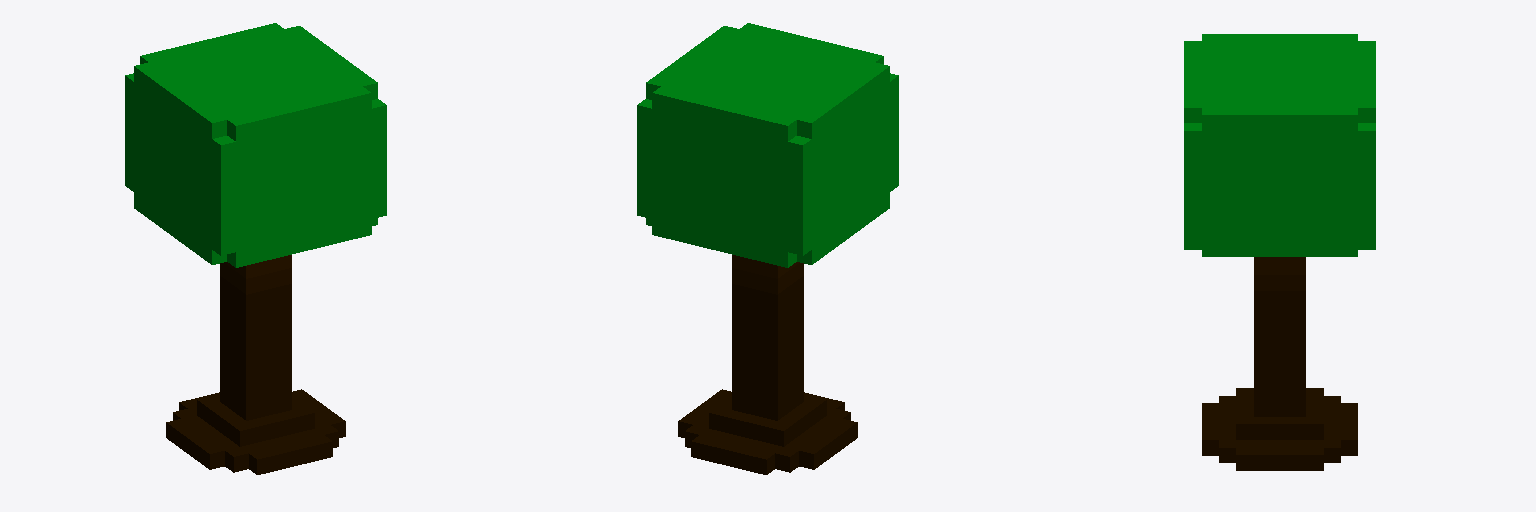
3 renders of one model, left to right at view 1: azimuth 30°, elevation 25°; view 2: azimuth 150°, elevation 25°; view 3: azimuth 270°, elevation 25°, orthographic.
Visible parts, largest first — view 1: object 1; view 2: object 1; view 3: object 1.
Boxes of the visible parts, box(x1,y1,x2,y2) form: object 1: box(125, 23, 386, 474); object 1: box(637, 23, 898, 474); object 1: box(1184, 34, 1375, 470).
Size of the model in its own units: 1.1 by 2.3 by 1.1.
1 materials, 1 textured.